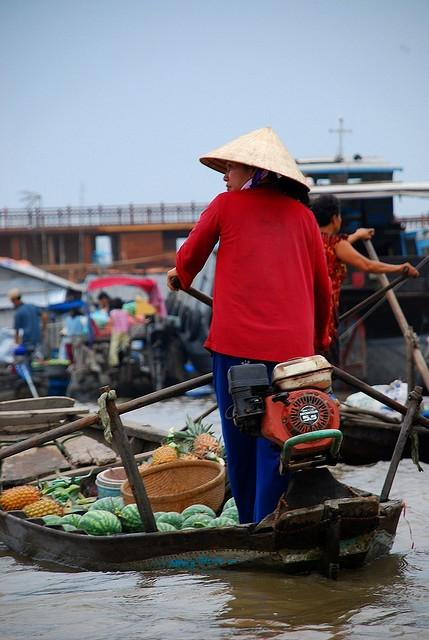pineapple: (185, 414, 221, 460), (21, 499, 88, 518), (0, 485, 40, 512), (152, 446, 178, 466), (176, 442, 199, 460), (138, 457, 153, 471), (218, 447, 228, 466)
watermelon: (76, 509, 122, 536), (116, 504, 145, 534), (88, 496, 126, 514), (181, 504, 216, 520), (156, 512, 186, 530), (181, 514, 214, 529), (220, 506, 240, 524), (57, 514, 82, 528), (206, 517, 237, 527), (156, 522, 178, 532), (223, 497, 237, 512), (41, 514, 61, 524), (154, 511, 168, 523), (62, 524, 78, 532), (182, 526, 197, 530)
